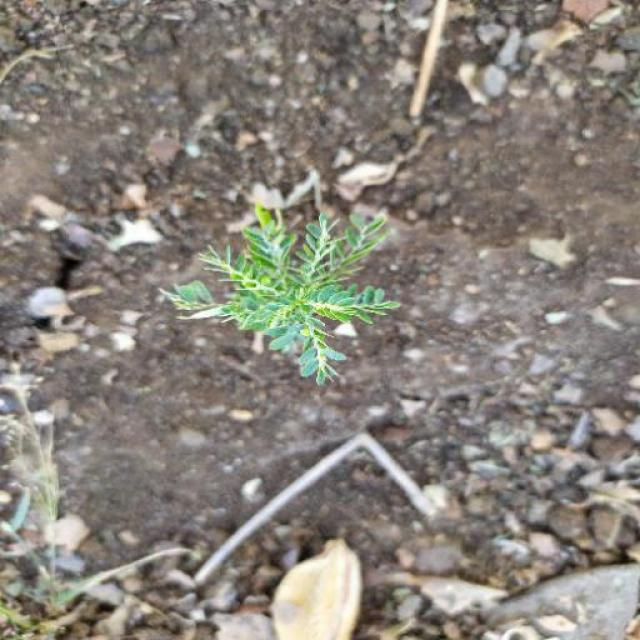weed: (173, 194, 405, 394)
